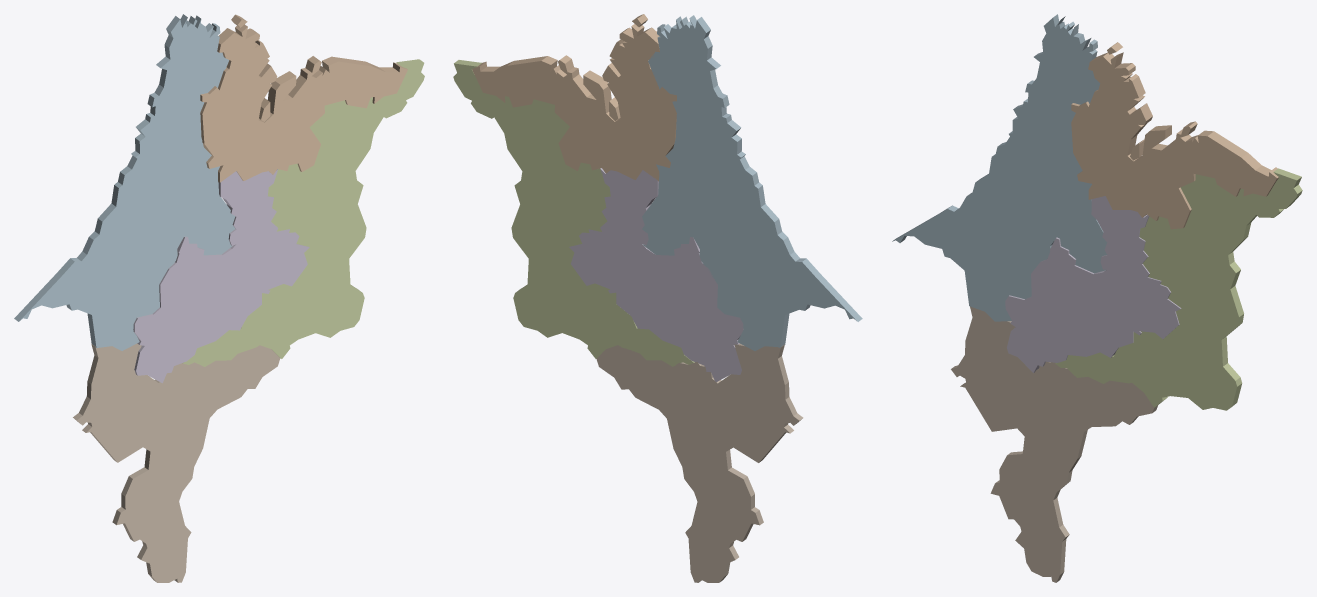
File: mapa-maranhao.fbx
The picture shows the model from 3 angles, left to right: view 1: azimuth 30°, elevation 25°; view 2: azimuth 150°, elevation 25°; view 3: azimuth 330°, elevation 25°; orthographic projection.
Visible parts, largest first — view 1: Mapa; view 2: Mapa; view 3: Mapa.
Part boxes in pixels (x1=…): Mapa: x1=14, y1=14, x2=424, y2=582; Mapa: x1=453, y1=14, x2=862, y2=582; Mapa: x1=892, y1=14, x2=1302, y2=582.
Bounding box in the file's own units: 0.693 × 0.9209 × 0.02.
1 material, 1 textured.
